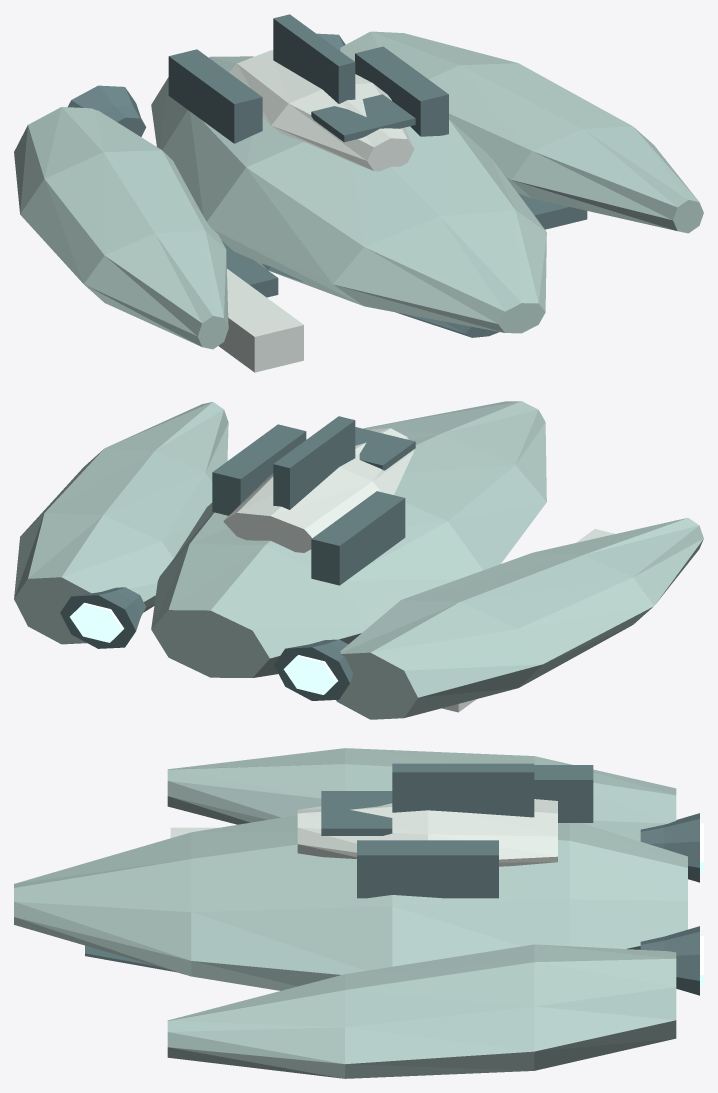
3 views of the same model, one above another, from view 1: azimuth 30°, elevation 25°; view 2: azimuth 150°, elevation 25°; view 3: azimuth 270°, elevation 25° (orthographic). The views are drawn at different scales.
Bounding box in the file's own units: 12.05 × 3.9 × 11.66.
